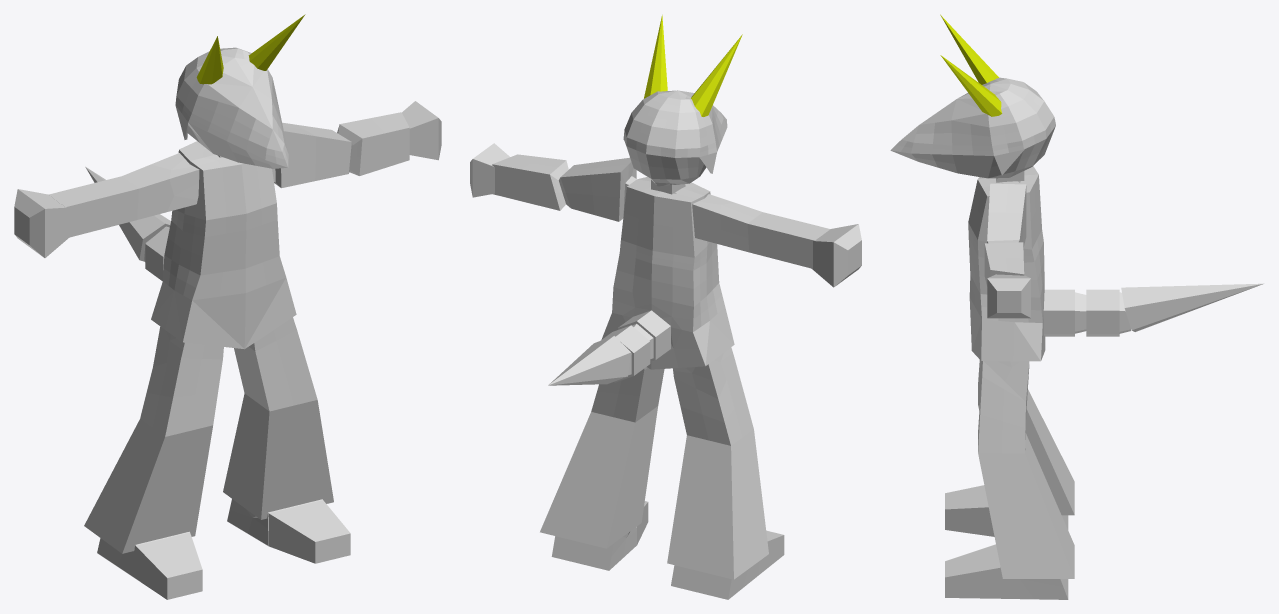
File: templatelinelessTEST2.fbx
3 views of the same model, side by side, from view 1: azimuth 30°, elevation 25°; view 2: azimuth 150°, elevation 25°; view 3: azimuth 270°, elevation 25° (orthographic). The views are drawn at different scales.
Visible parts, largest first — view 1: leg.002, horns.002; view 2: leg.002, horns.002; view 3: leg.002, horns.002.
Part boxes in pixels (x1,y1,x2,y2): leg.002: (14,47,441,599); horns.002: (196,14,305,84); leg.002: (470,90,861,599); horns.002: (644,15,742,116); leg.002: (890,77,1263,599); horns.002: (940,14,1002,116).
Size of the model in its own units: 159 by 204 by 133.
